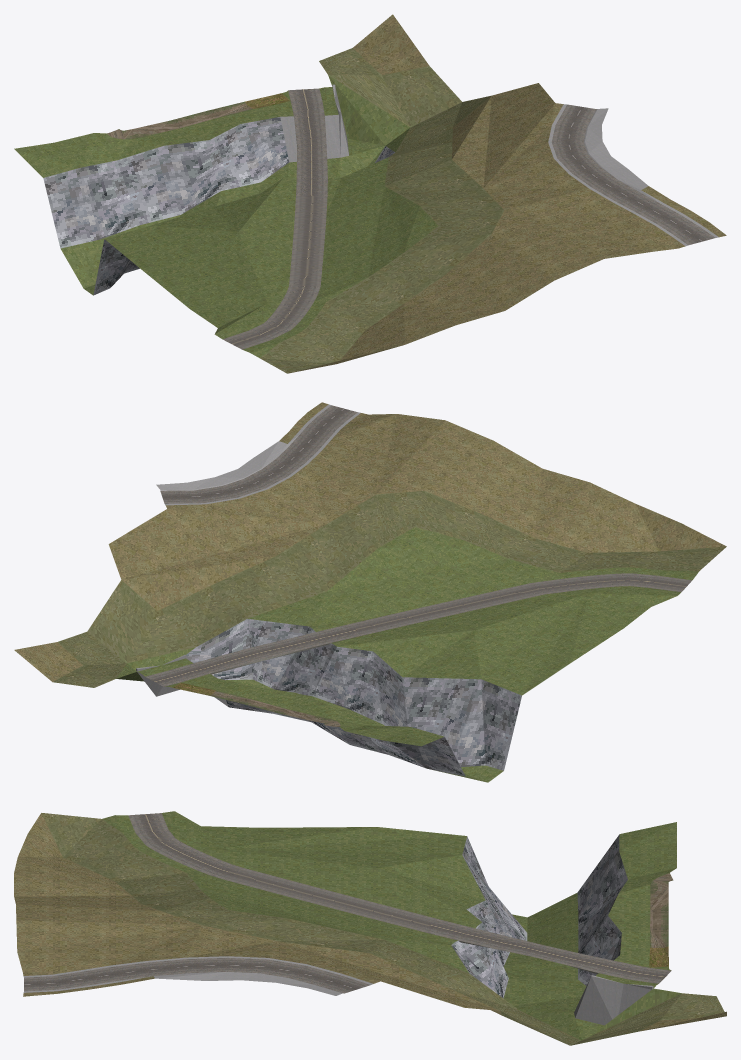
Rendered from lod_sw_bit_06.obj.
3 views of the same model, one above another, from view 1: azimuth 30°, elevation 25°; view 2: azimuth 150°, elevation 25°; view 3: azimuth 270°, elevation 25° (orthographic). The views are drawn at different scales.
Parts seen in each view (by area): view 1: lod_sw_bit_06; view 2: lod_sw_bit_06; view 3: lod_sw_bit_06.
Part boxes in pixels (x1,y1,x2,y2): lod_sw_bit_06: (14,14,726,373); lod_sw_bit_06: (14,402,726,782); lod_sw_bit_06: (14,811,726,1045).
Bounding box in the file's own units: 206 × 58.47 × 252.
Materials: 10 (10 with a texture image).
